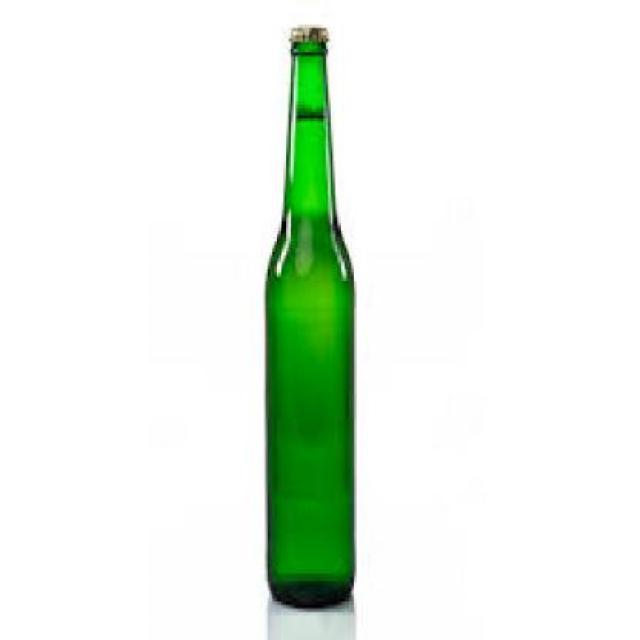kaca: (264, 24, 354, 604)
